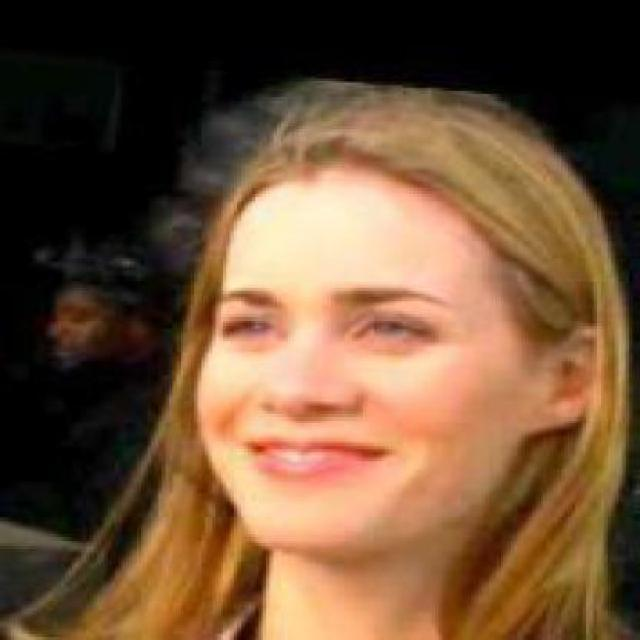closed-mouth: (239, 434, 395, 480)
